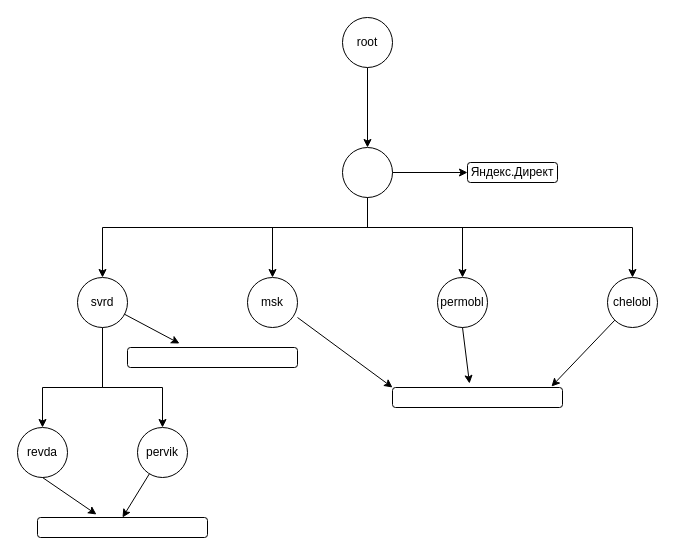
The diagram is 675 pixels wide and 555 high, and some of its shapes have lost their labels. The shapes that lost their labels are listed below. From the top down, each one's centre as x and y in pixels, then its label:
At (x=367, y=172): "ru".
At (x=212, y=357): "Крутая реклама".
At (x=477, y=397): "Газета уральских москвичей".
At (x=122, y=527): "Ревдинский рабочий".
